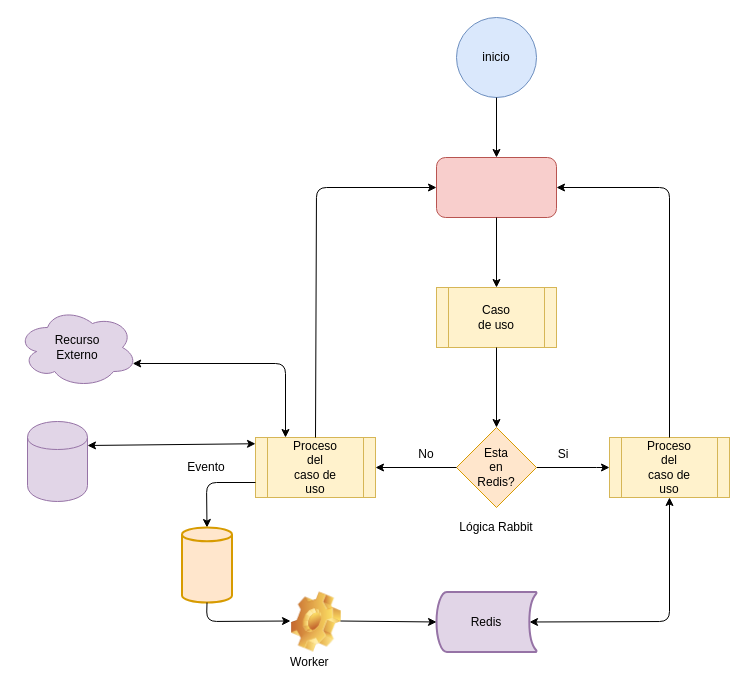
This 747x689 diagram has some shape labels left out. The centre of each missing label's shape, as x and y in pixels:
Controlador: pixel 496 187
Local DB: pixel 57 461
Rabbit: pixel 206 564
